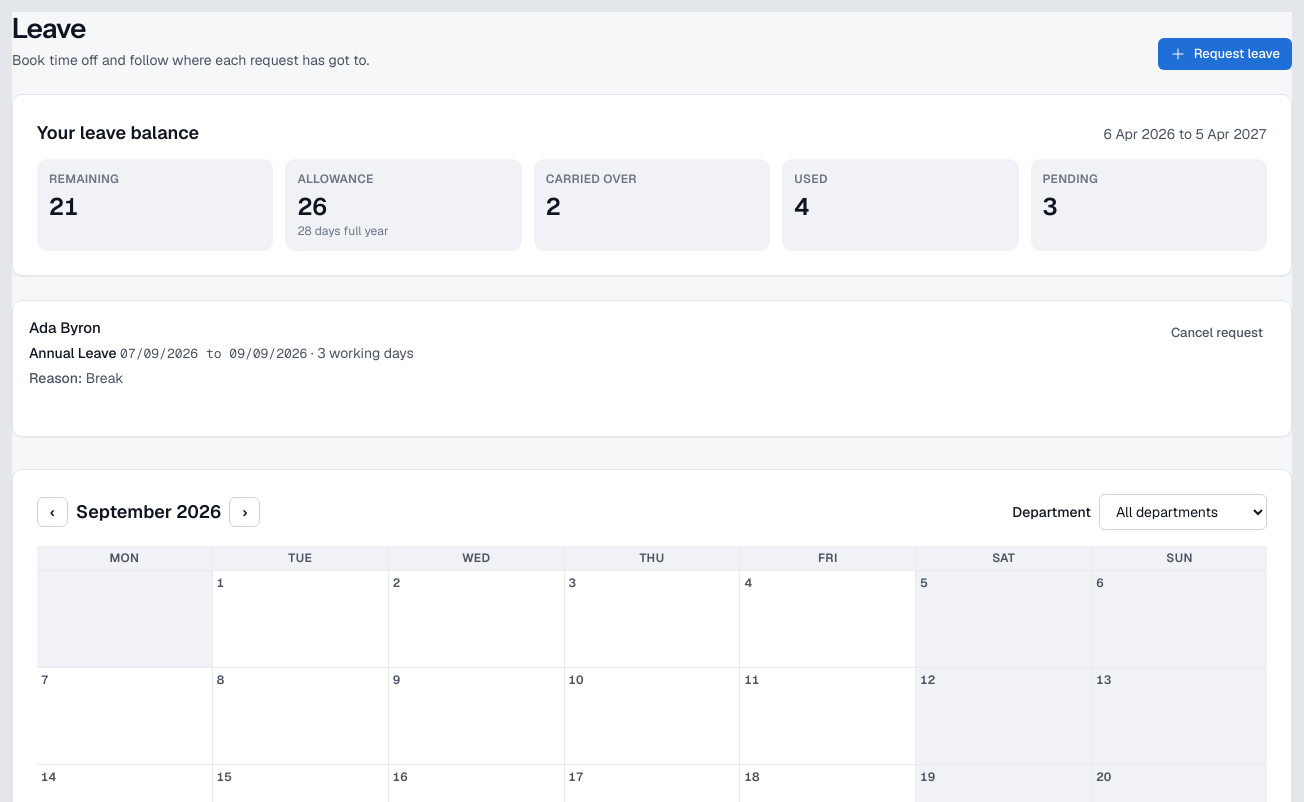
Test: Leave page › cancels the signed-in employee own pending request
Click the button "Cancel request": (1217, 333) [1159,317,1275,349]
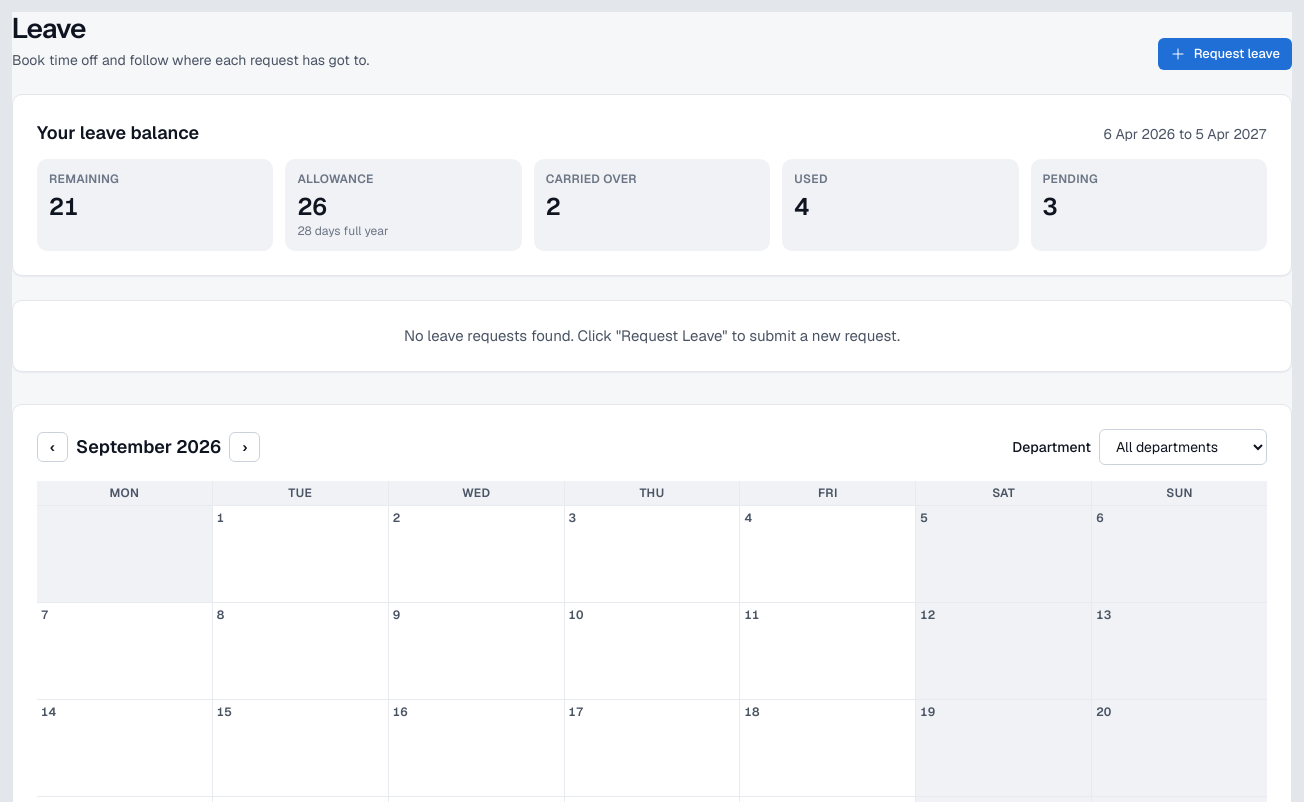
Expected: the text "Ada Byron" is gone
